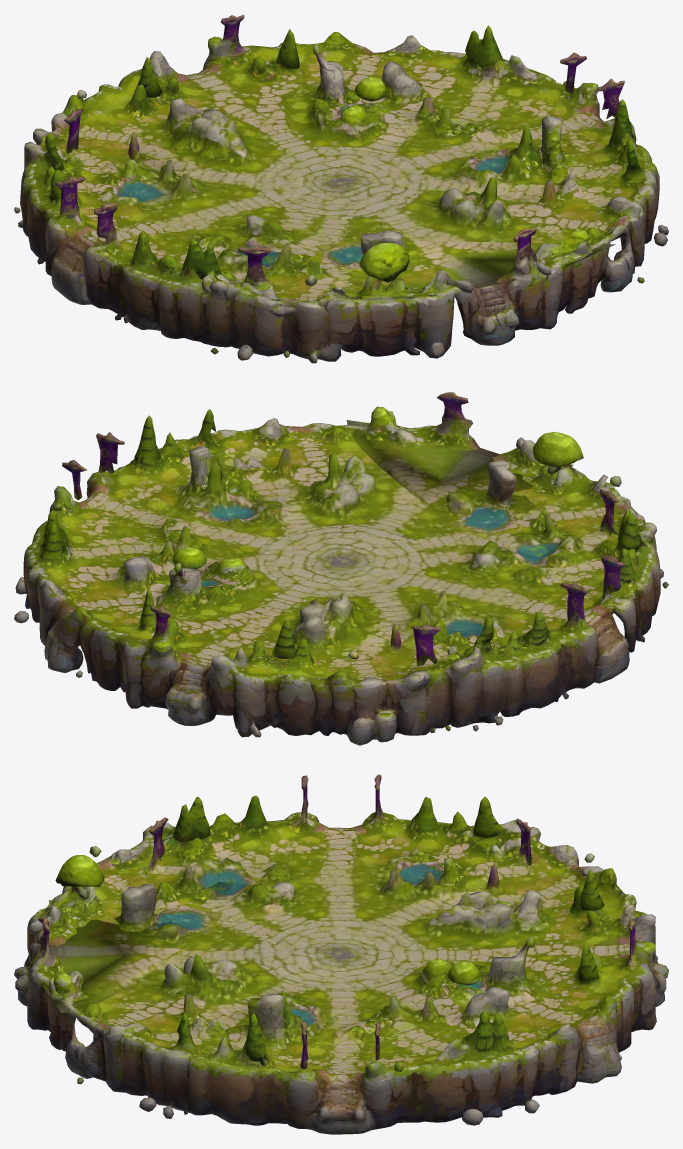
The model's file is Hub_Base.glb.
3 renders of one model, top to bottom at view 1: azimuth 30°, elevation 25°; view 2: azimuth 150°, elevation 25°; view 3: azimuth 270°, elevation 25°, orthographic.
Size of the model in its own units: 1.91 by 0.3405 by 1.91.
1 material, 1 textured.
